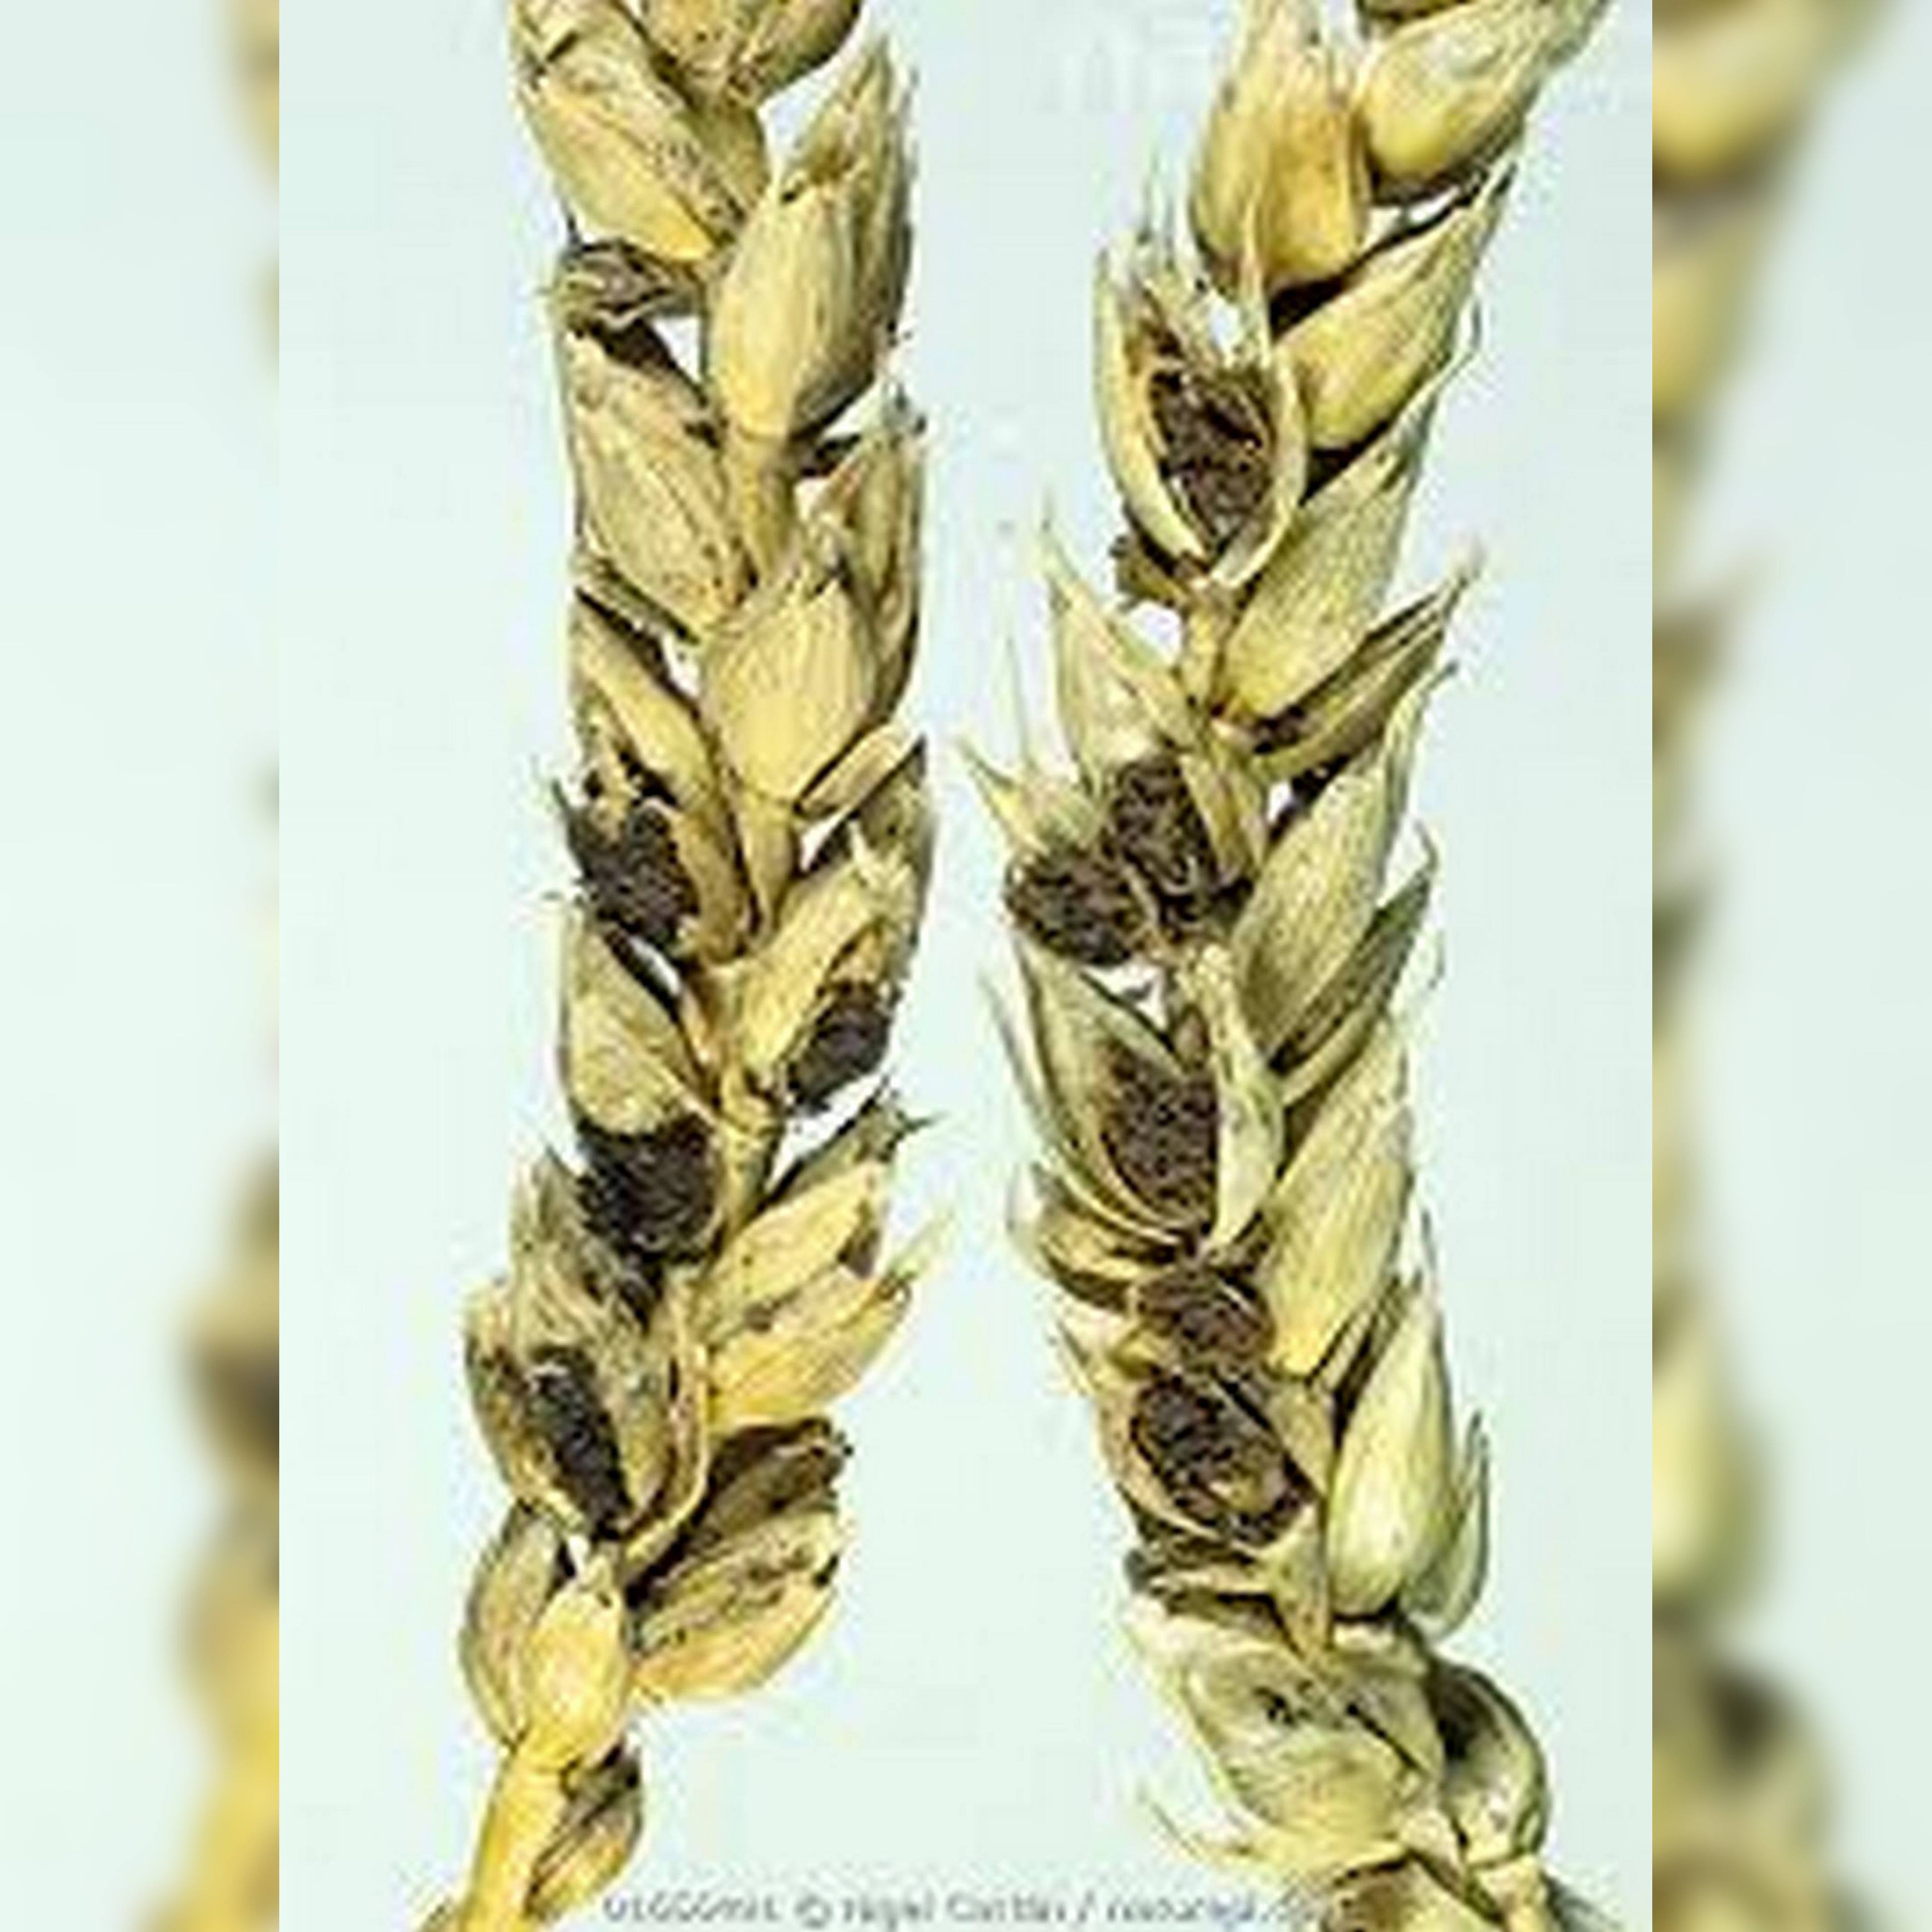Wheat Loose Smut: (483, 161, 1598, 1667)
